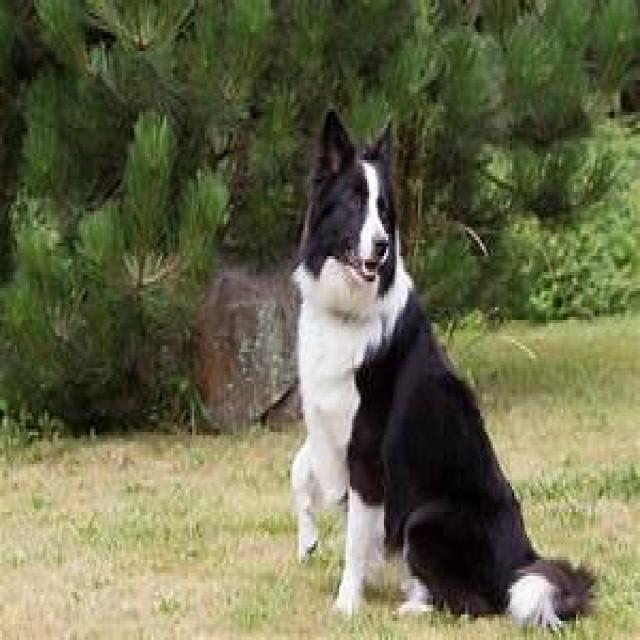dog: (292, 112, 592, 627)
